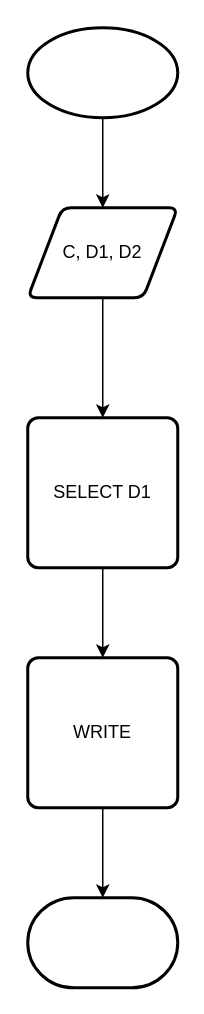
The diagram is 204 pixels wide and 1014 high, and some of its shapes have lost their labels. The box of each missing label's shape, as (x1, y1, x2, y2) in pixels:
END: (26, 896, 178, 988)
Start: (26, 26, 178, 118)
